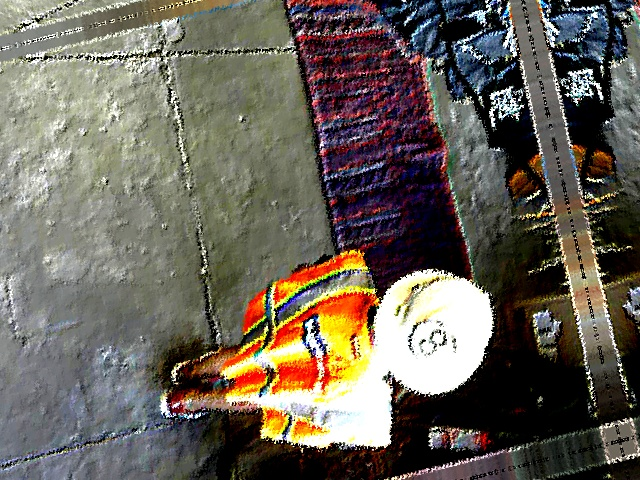eight: (404, 312, 462, 373)
